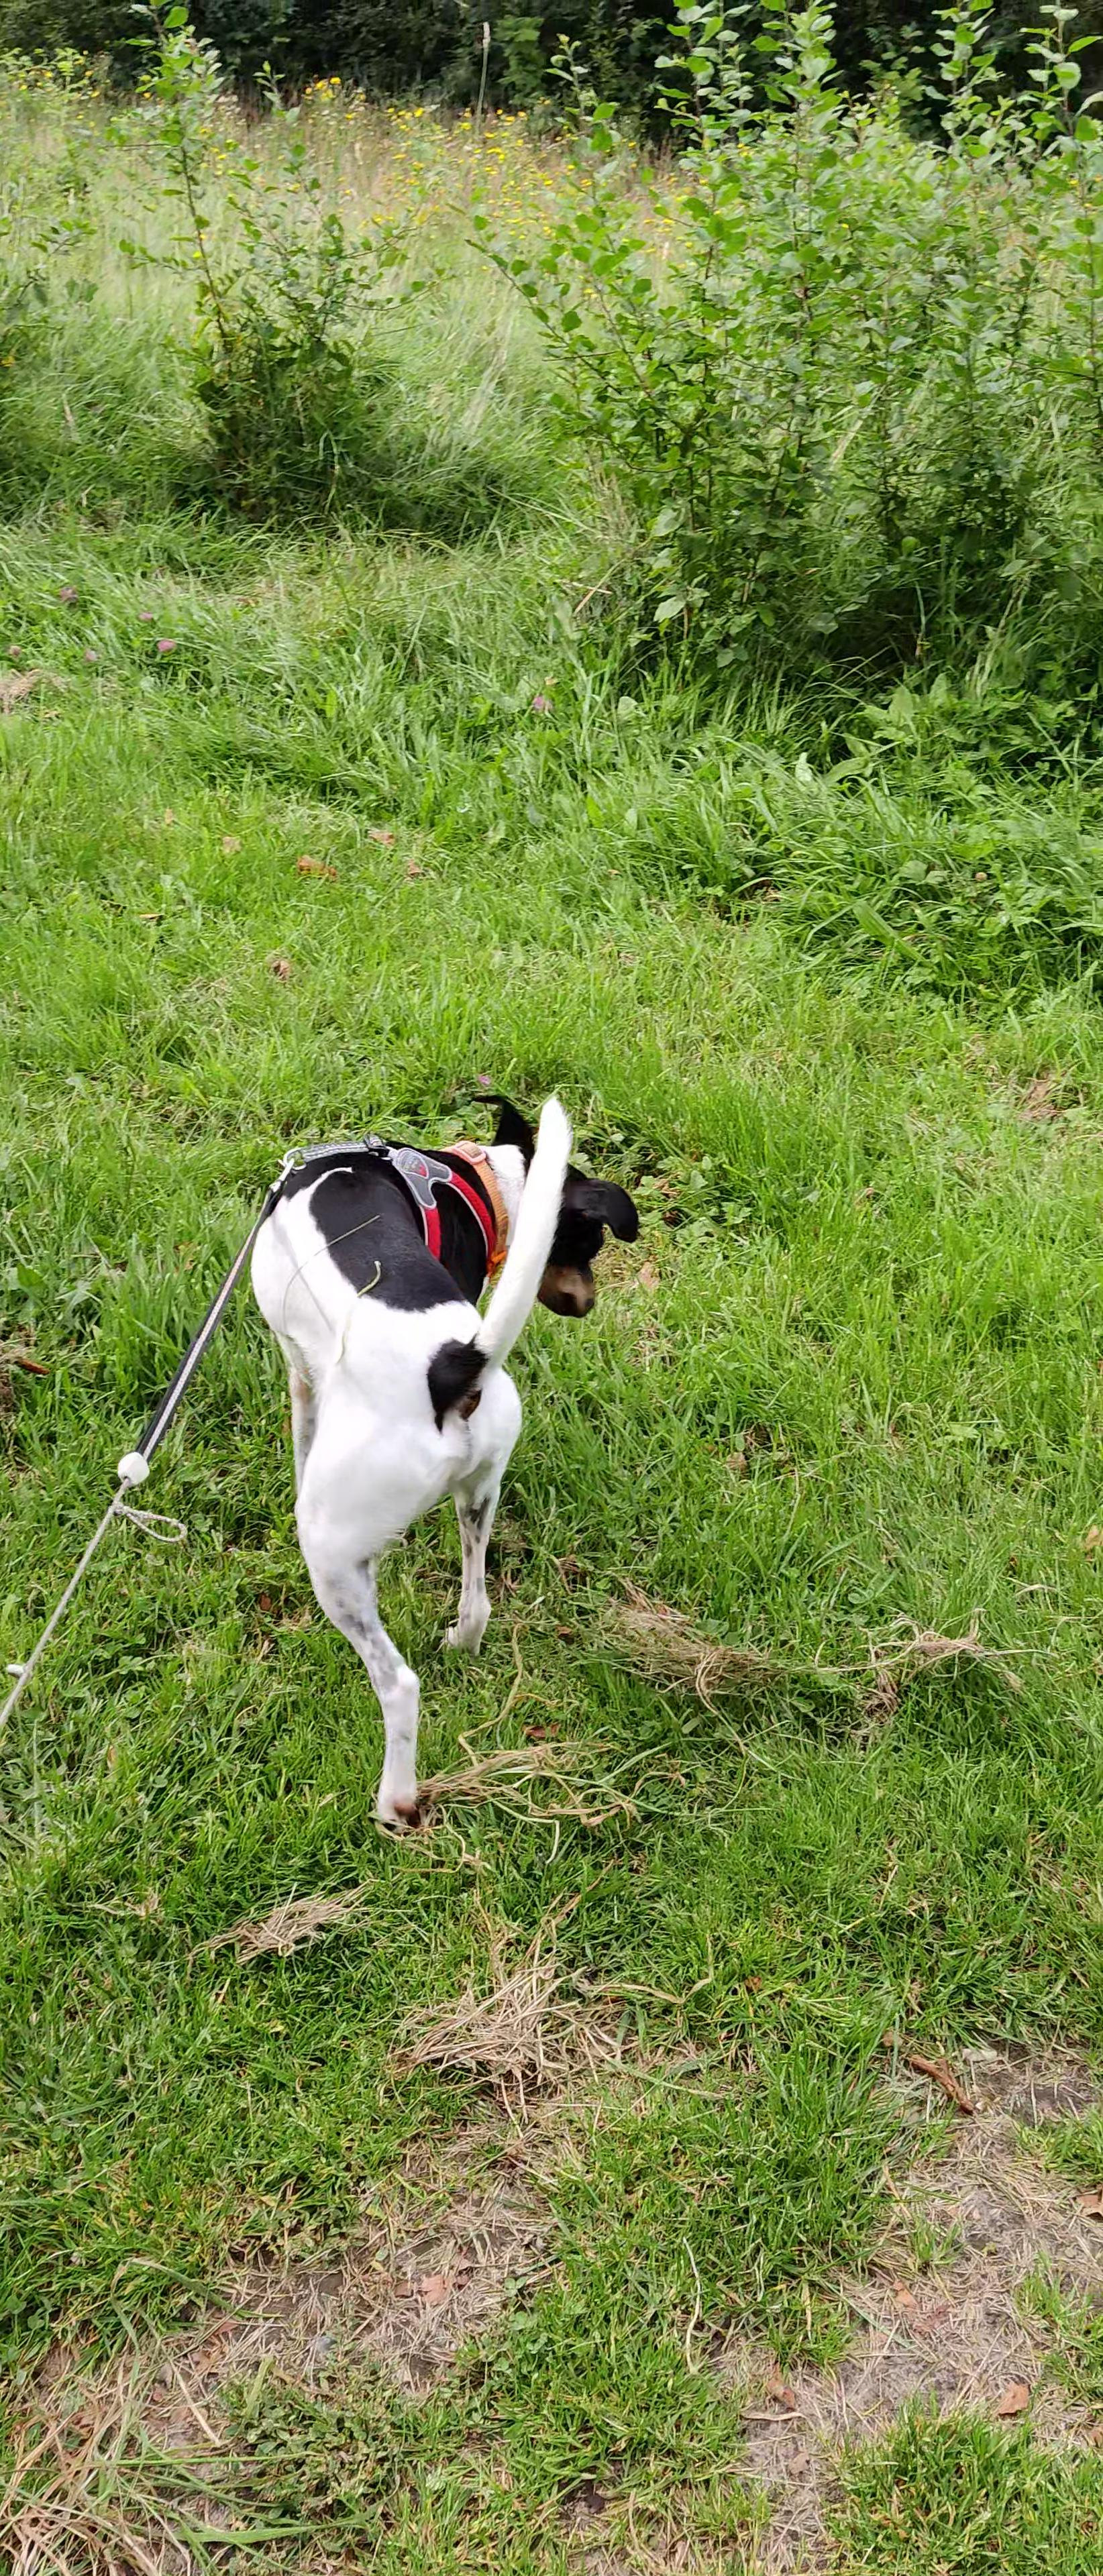Dog: (232, 1078, 648, 1828)
